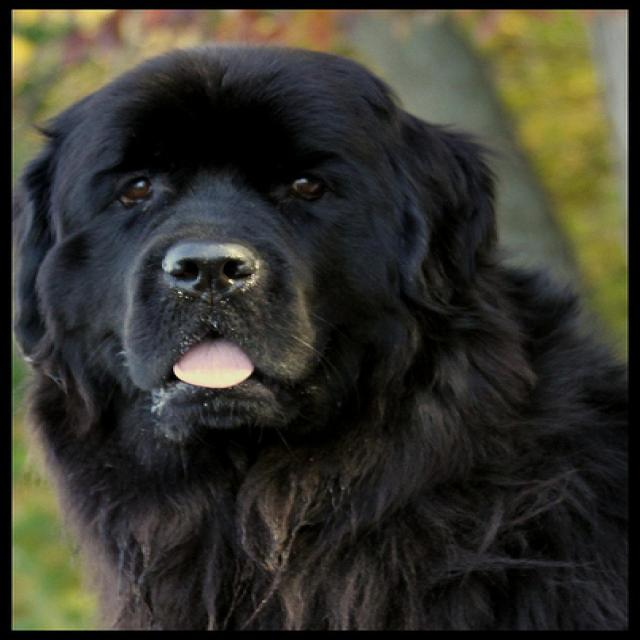dog-newfoundland: (2, 35, 637, 637)
